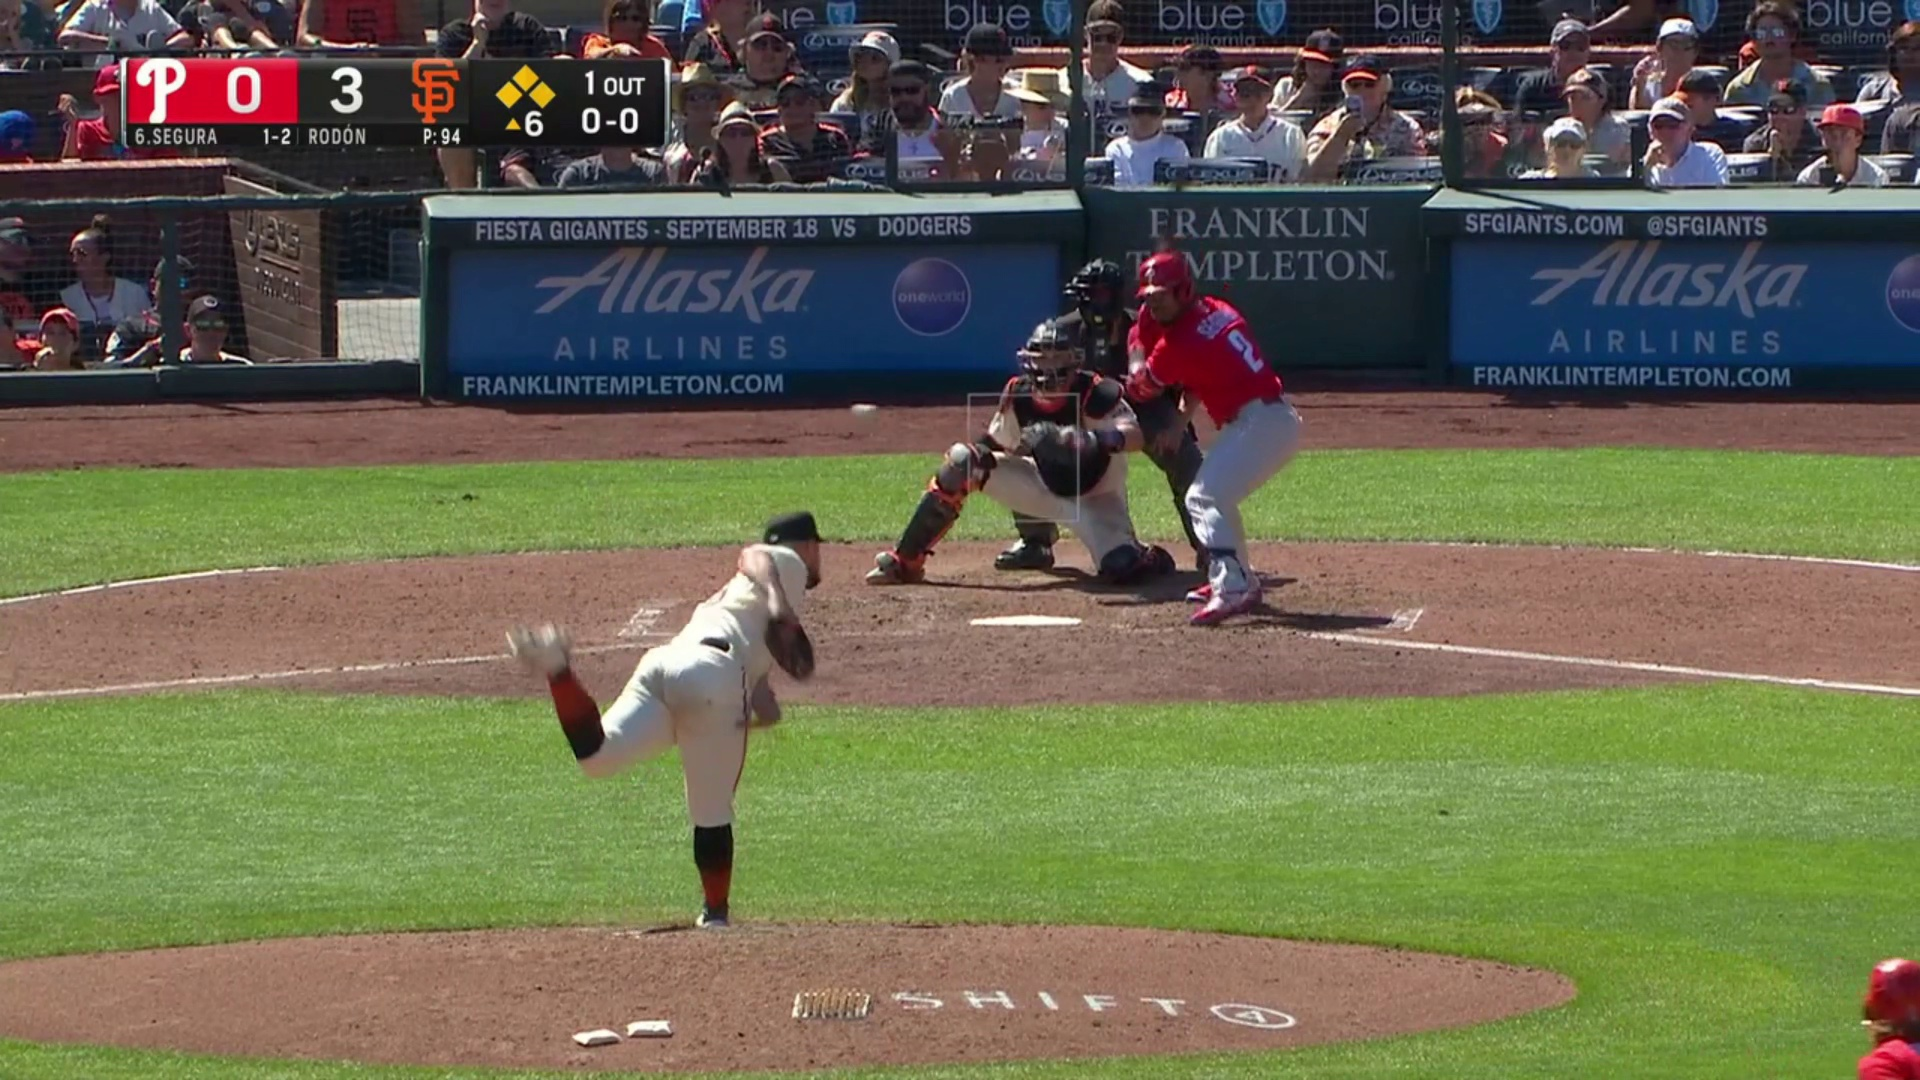baseball: (851, 404, 877, 418)
